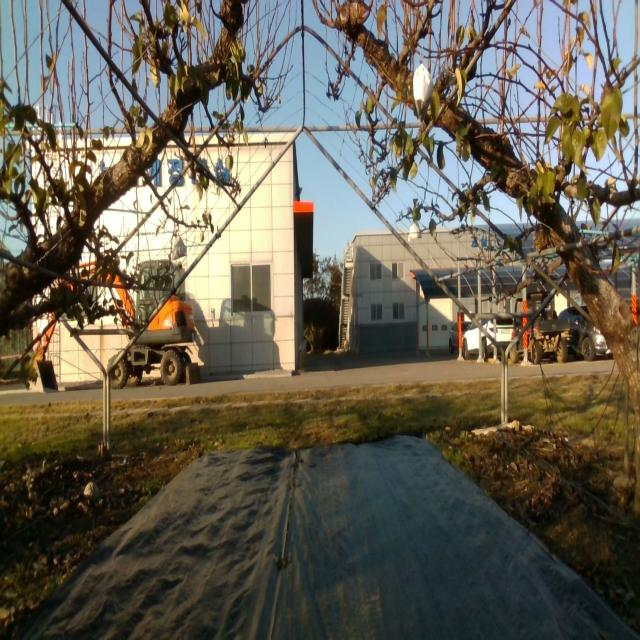pearbags: (412, 64, 434, 123), (172, 234, 187, 260), (406, 220, 422, 243)
